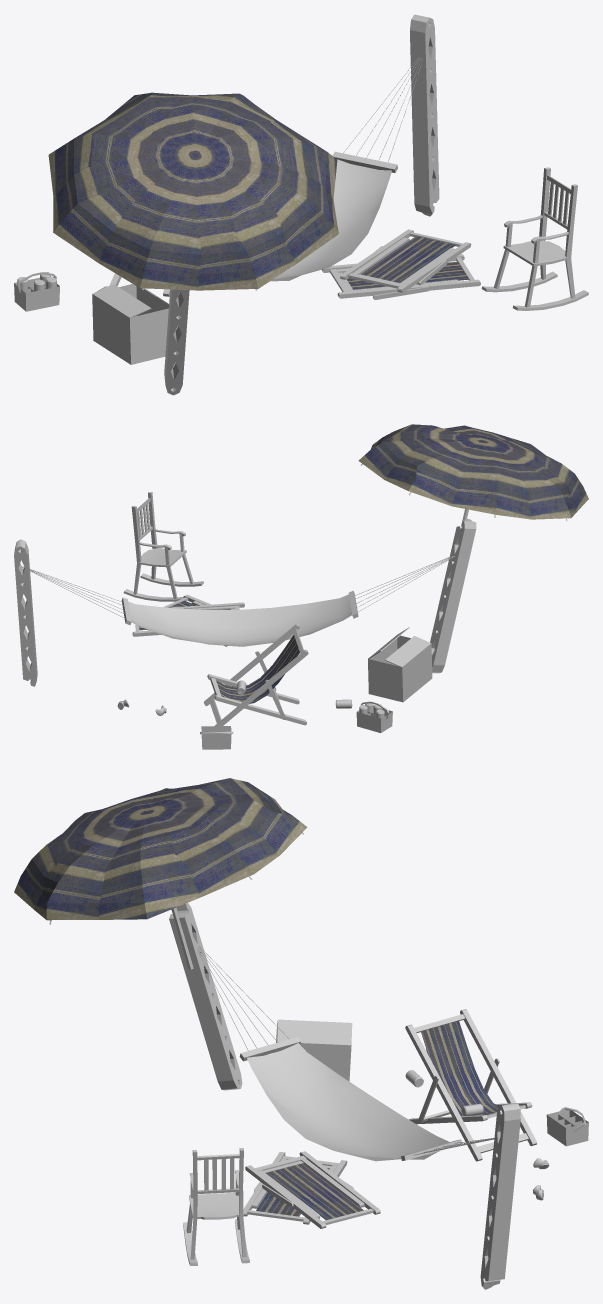
The model's file is props.fbx.
3 views of the same model, one above another, from view 1: azimuth 30°, elevation 25°; view 2: azimuth 150°, elevation 25°; view 3: azimuth 270°, elevation 25° (orthographic). The views are drawn at different scales.
Visible parts, largest first — view 1: pCylinder46, polySurface991, pCube172, polySurface4510, polySurface993, polySurface992, pCylinder69; view 2: pCylinder46, polySurface991, polySurface996, pCube172, polySurface4510, pCylinder69, polySurface3774, polySurface993; view 3: pCylinder46, polySurface991, polySurface996, polySurface993, polySurface4510, pCube172, polySurface992, polySurface3774.
Boxes of the visible parts, x1,y1,x2,y2 form: pCylinder46: (48,92,338,290); polySurface991: (164,14,439,395); pCube172: (92,284,168,364); polySurface4510: (481,167,588,310); polySurface993: (340,229,471,292); polySurface992: (322,254,480,299); pCylinder69: (14,272,59,311); pCylinder46: (358,424,588,526); polySurface991: (14,518,476,686); polySurface996: (204,624,308,726); pCube172: (368,627,432,702); polySurface4510: (123,492,203,601); pCylinder69: (356,701,392,733); polySurface3774: (200,726,233,749); polySurface993: (132,602,244,636); pCylinder46: (14,778,307,969); polySurface991: (169,903,520,1289); polySurface996: (405,1009,537,1161); polySurface993: (245,1151,380,1228); polySurface4510: (183,1148,249,1265); pCube172: (276,1019,352,1081); polySurface992: (243,1152,347,1224); polySurface3774: (546,1107,588,1146).
Size of the model in its own units: 24.6 by 12.93 by 22.64.
